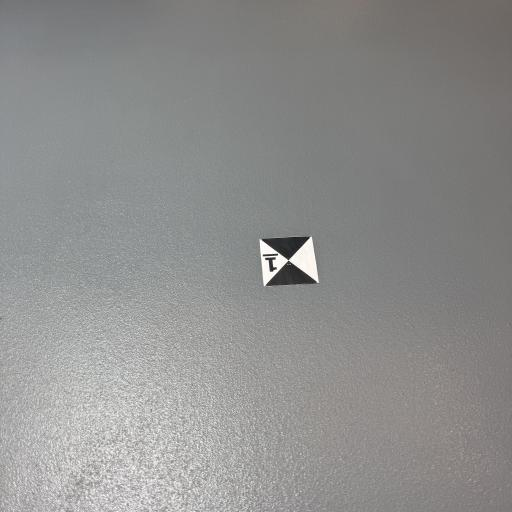target1: (256, 231, 335, 305)
